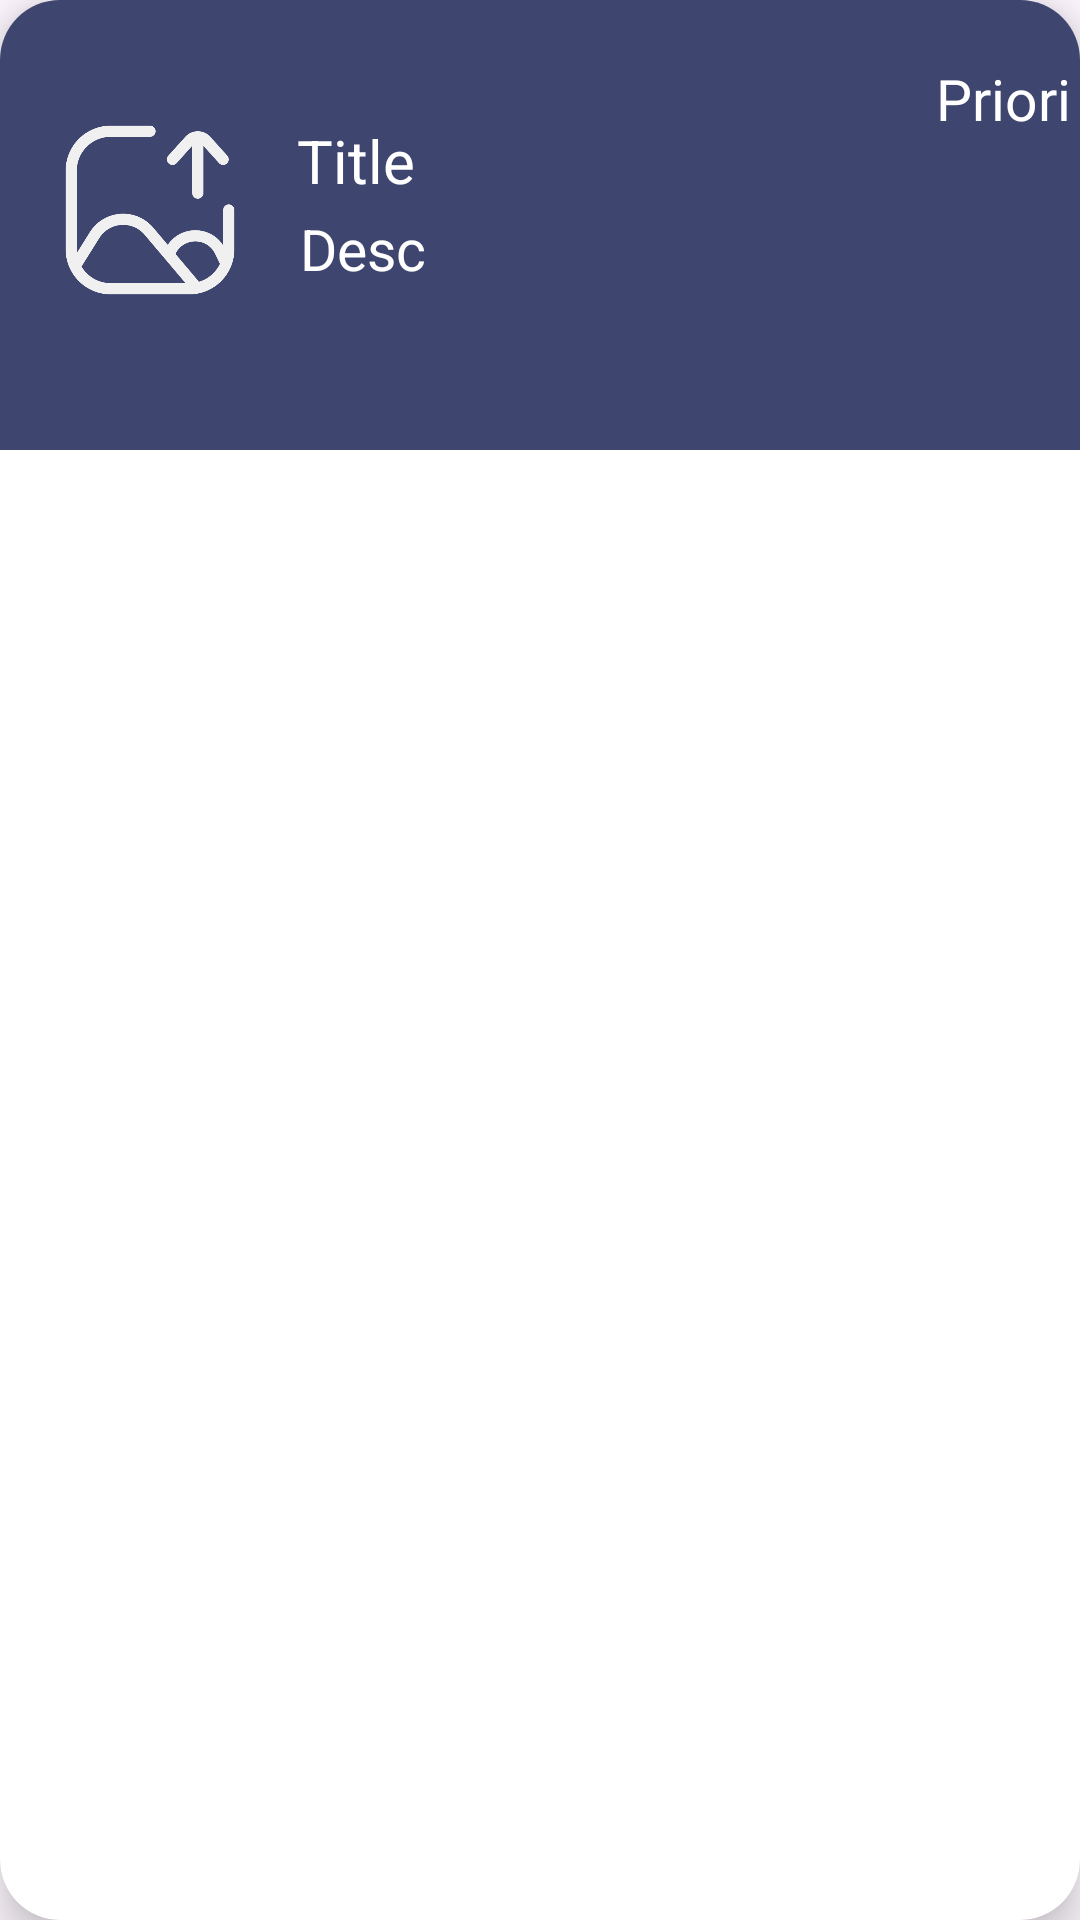

Icon bounding boxes for this 1080 x 1920 phone screenshot, format (x1, y1, x2, y2):
upload: (65, 125, 235, 295)
